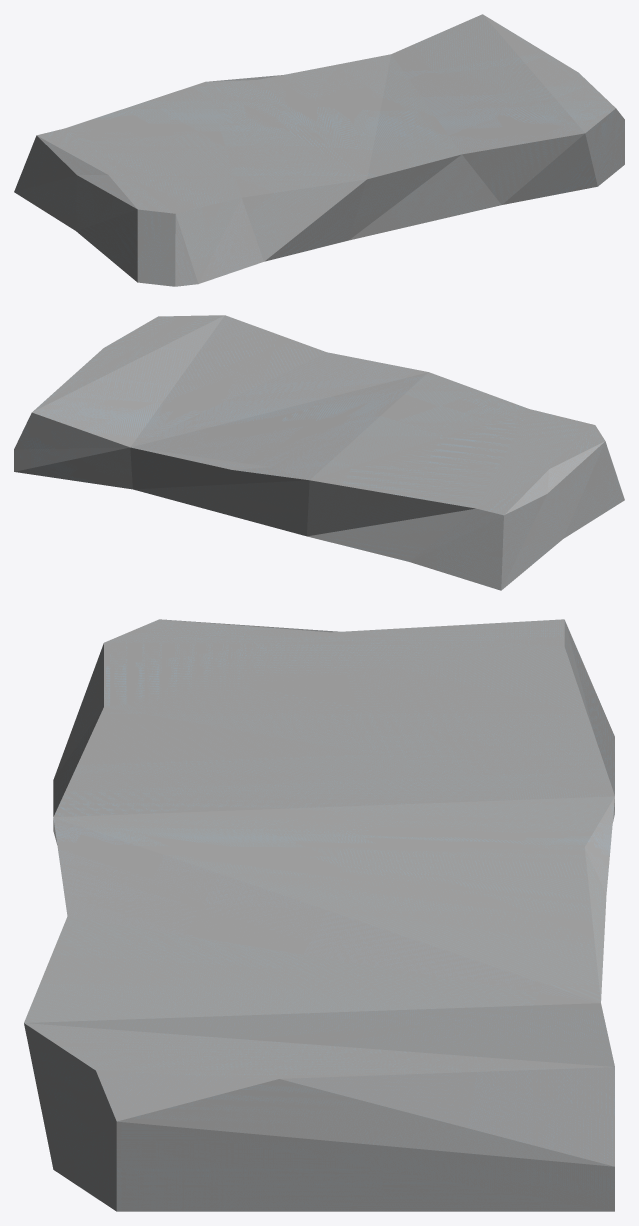
The model's file is Doorstep4.fbx.
3 renders of one model, top to bottom at view 1: azimuth 30°, elevation 25°; view 2: azimuth 150°, elevation 25°; view 3: azimuth 270°, elevation 25°, orthographic. The views are drawn at different scales.
Visible parts, largest first — view 1: Group1; view 2: Group1; view 3: Group1.
Boxes of the visible parts, left/top/right/bottom form: Group1: left=14, top=14, right=624, bottom=286; Group1: left=14, top=315, right=624, bottom=590; Group1: left=24, top=619, right=614, bottom=1211.
Bounding box in the file's own units: 800 × 100 × 421.
